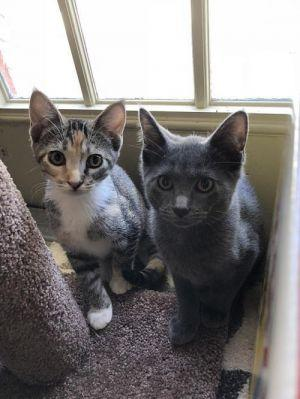rblue: (133, 104, 253, 232)
